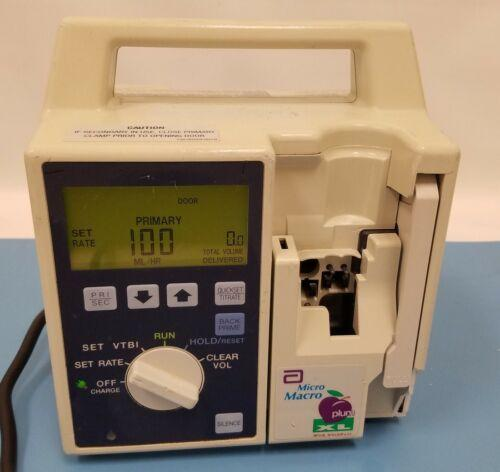plumxl1: (25, 15, 457, 458)
